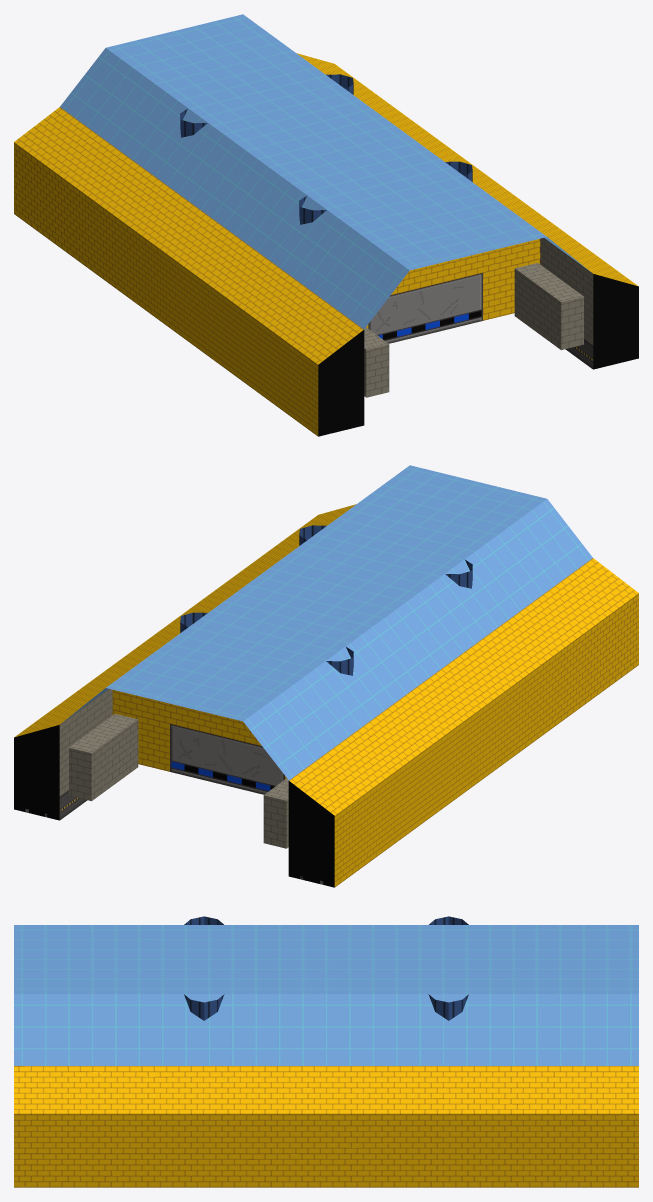
Rendered from stationSceneNew.fbx.
3 views of the same model, one above another, from view 1: azimuth 30°, elevation 25°; view 2: azimuth 150°, elevation 25°; view 3: azimuth 270°, elevation 25° (orthographic). The views are drawn at different scales.
Parts seen in each view (by area): view 1: ceiling, wall.001, securityRoom, wall, door, exitWall, darkness.001, darkness, securityRoom.001; view 2: ceiling, wall.001, securityRoom.002, wall, door.001, exitWall.001, darkness.002, darkness.003, securityRoom.003; view 3: ceiling, wall, column.001, column.002.
Part boxes in pixels (x1=…): ceiling: x1=60, y1=14, x2=591, y2=329; wall.001: x1=14, y1=107, x2=363, y2=436; securityRoom: x1=514, y1=238, x2=593, y2=350; wall: x1=296, y1=53, x2=637, y2=285; door: x1=368, y1=273, x2=482, y2=343; exitWall: x1=366, y1=239, x2=540, y2=328; darkness.001: x1=318, y1=330, x2=364, y2=436; darkness: x1=593, y1=274, x2=638, y2=369; securityRoom.001: x1=364, y1=327, x2=389, y2=397; ceiling: x1=61, y1=465, x2=592, y2=780; wall.001: x1=289, y1=558, x2=638, y2=887; securityRoom.002: x1=59, y1=689, x2=138, y2=801; wall: x1=15, y1=504, x2=356, y2=736; door.001: x1=170, y1=724, x2=284, y2=794; exitWall.001: x1=112, y1=690, x2=286, y2=779; darkness.002: x1=288, y1=781, x2=334, y2=887; darkness.003: x1=14, y1=725, x2=59, y2=820; securityRoom.003: x1=263, y1=778, x2=288, y2=848; ceiling: x1=14, y1=925, x2=638, y2=1065; wall: x1=14, y1=1066, x2=638, y2=1187; column.001: x1=184, y1=994, x2=224, y2=1020; column.002: x1=428, y1=994, x2=468, y2=1020.
Bounding box in the file's own units: 2800 × 1200 × 4600.
